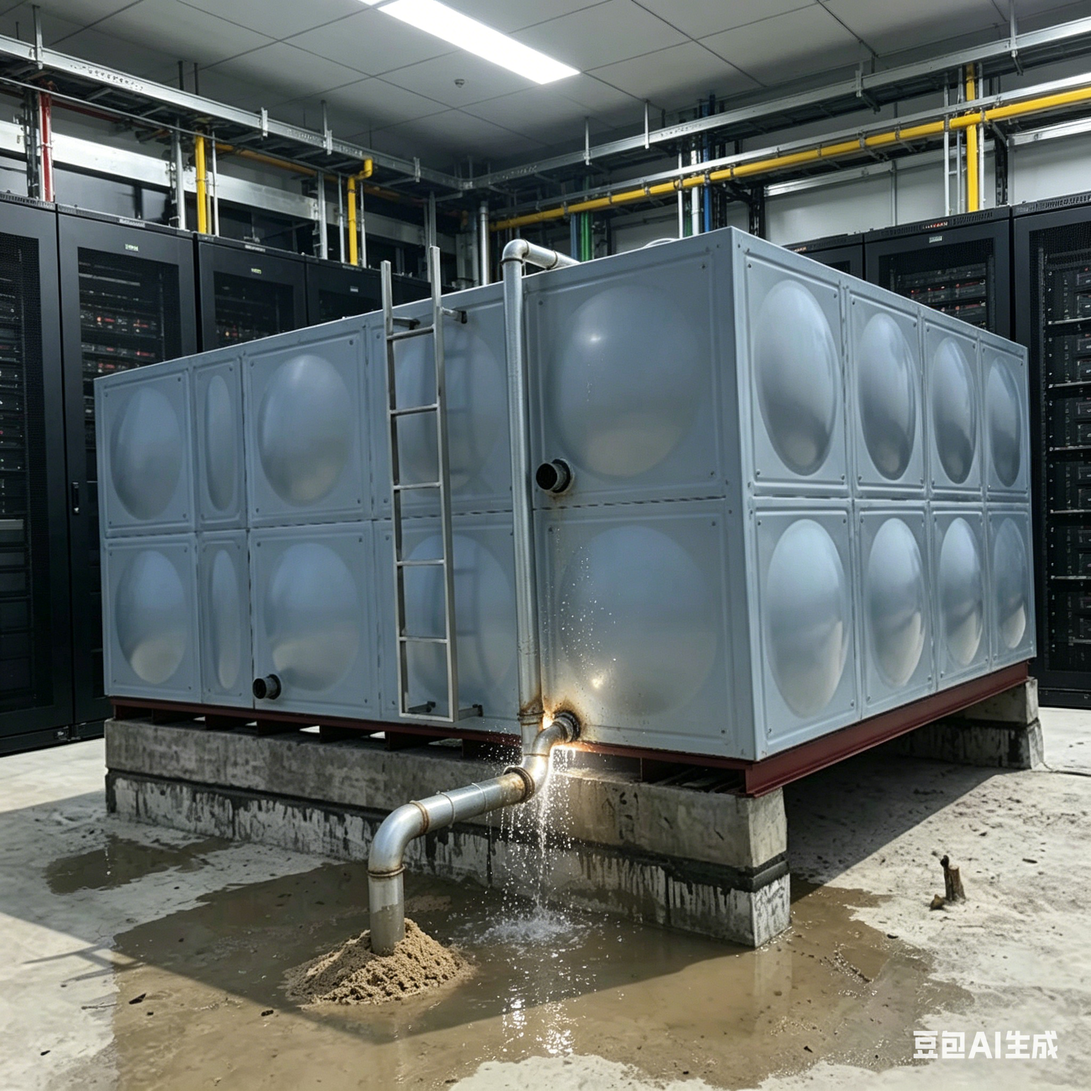Leakage: (475, 652, 646, 1059), (122, 931, 463, 1091), (658, 917, 981, 1081), (251, 868, 467, 935), (48, 824, 193, 876)
